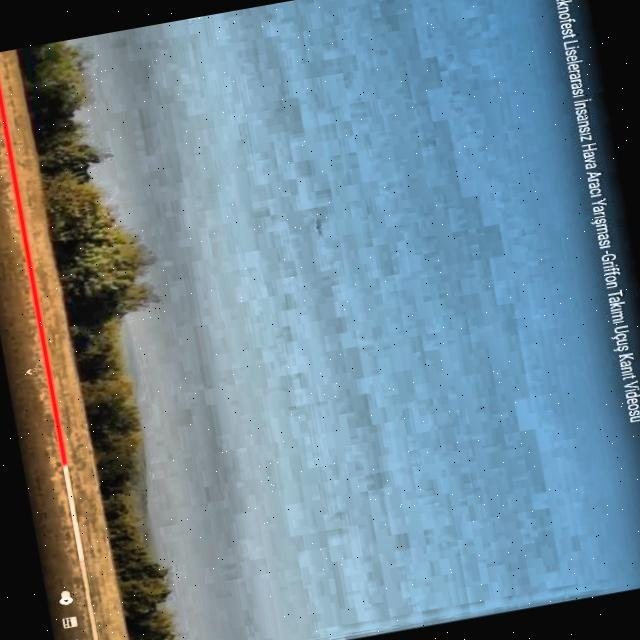iha: (304, 206, 337, 246)
